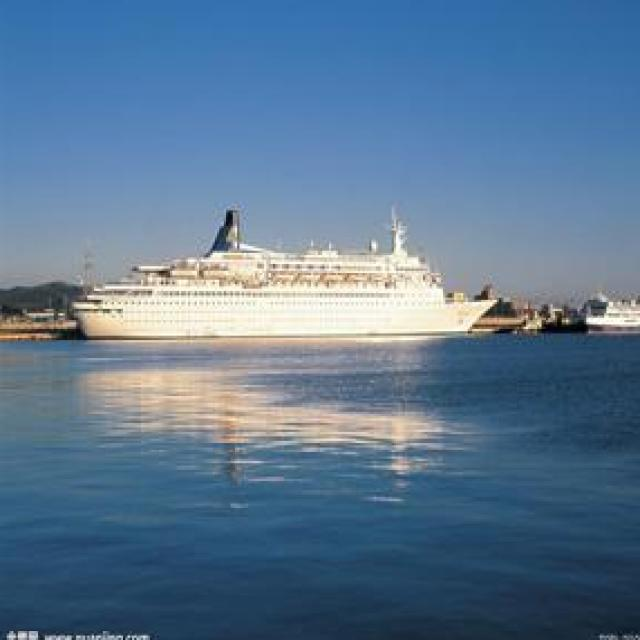passenger ship: (56, 240, 498, 343)
